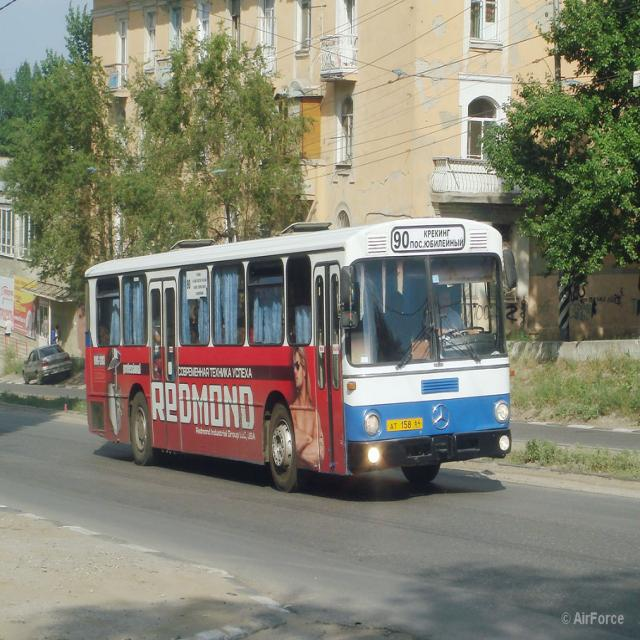number-of-bus: (392, 230, 411, 252)
